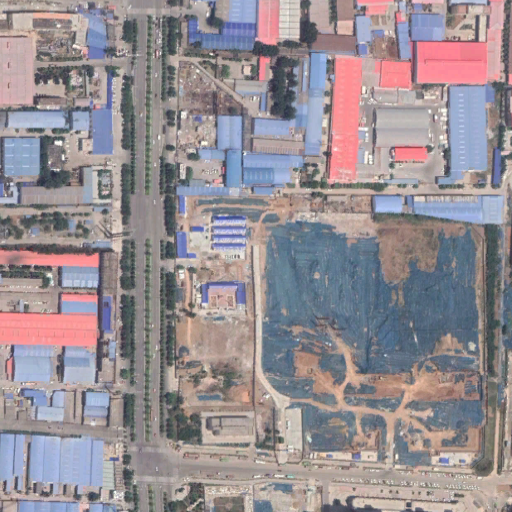cw: (255, 205, 512, 469)
